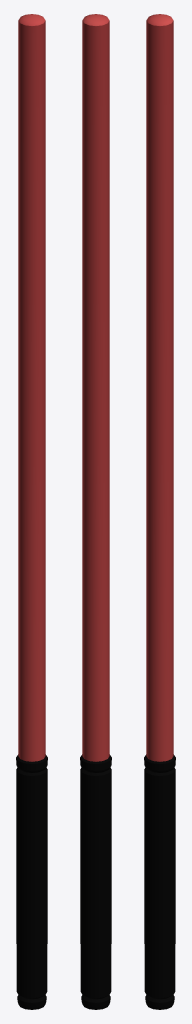
The model's file is Sea_Mark_Lateral_Red.fbx.
3 renders of one model, left to right at view 1: azimuth 30°, elevation 25°; view 2: azimuth 150°, elevation 25°; view 3: azimuth 330°, elevation 25°, orthographic.
Parts seen in each view (by area): view 1: Mdl_SeaSign_Lateral_Red; view 2: Mdl_SeaSign_Lateral_Red; view 3: Mdl_SeaSign_Lateral_Red.
Boxes of the visible parts, left/top/right/bottom form: Mdl_SeaSign_Lateral_Red: left=16, top=14, right=47, bottom=1009; Mdl_SeaSign_Lateral_Red: left=80, top=14, right=111, bottom=1009; Mdl_SeaSign_Lateral_Red: left=144, top=14, right=175, bottom=1009.
Size of the model in its own units: 0.0583 by 2.01 by 0.0583.
